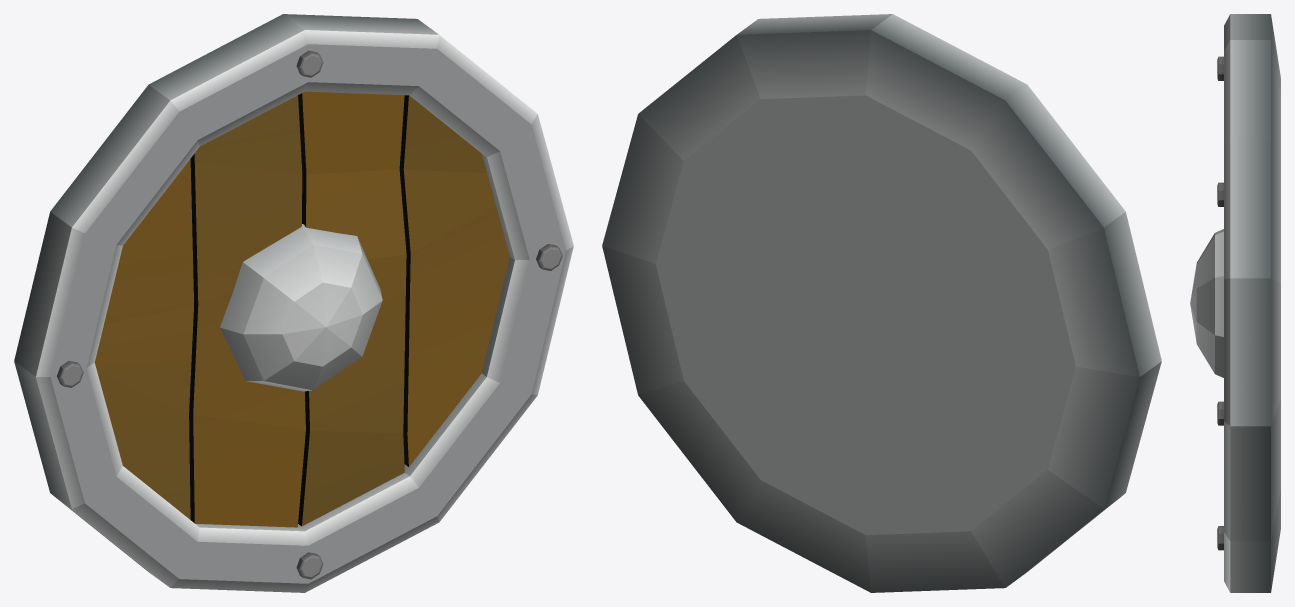
The model's file is shield_2.glb.
3 renders of one model, left to right at view 1: azimuth 30°, elevation 25°; view 2: azimuth 150°, elevation 25°; view 3: azimuth 270°, elevation 25°, orthographic. The views are drawn at different scales.
Parts seen in each view (by area): view 1: shield_2; view 2: shield_2; view 3: shield_2.
Part boxes in pixels (left/top/right/bottom): shield_2: left=14, top=14, right=573, bottom=592; shield_2: left=602, top=14, right=1161, bottom=592; shield_2: left=1190, top=14, right=1280, bottom=592.
Bounding box in the file's own units: 0.5055 × 0.5055 × 0.0789.
Materials: 1 (1 with a texture image).
